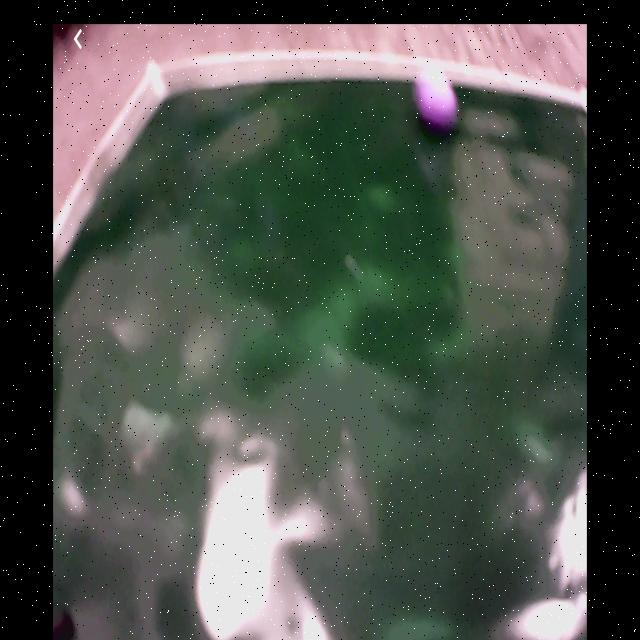ball: (422, 81, 461, 134)
